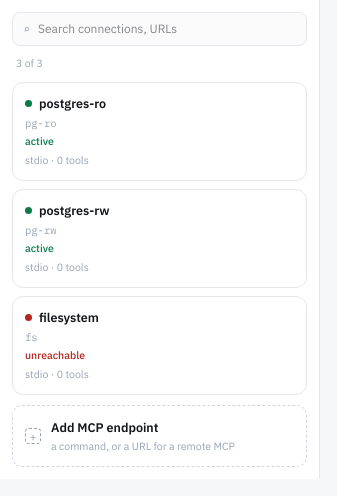
EndpointList › search narrows the visible endpoints by name
Check: the number of buttons "postgres-ro pg-ro active stdio · 0 tools" is 3, box [12,82,307,181]; [12,189,307,288]; [12,296,307,395]
Step 1. Type "postgres" into the field with placeholder "Search connections, URLs" → (167, 29), box [38,13,296,45]
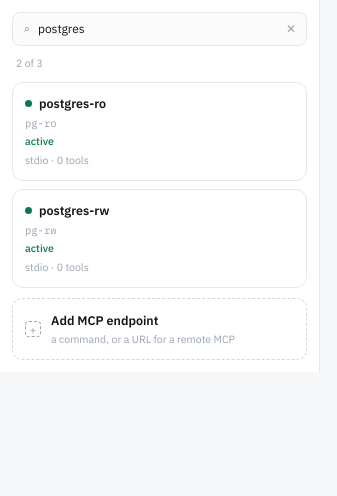
Check: the number of buttons "postgres-ro pg-ro active stdio · 0 tools" is 2, box [12,82,307,181]; [12,189,307,288]
Check: the button "filesystem" is gone
